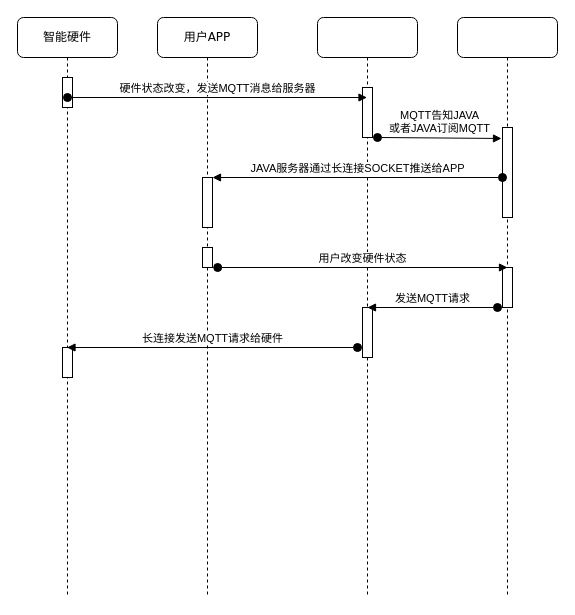
Some shapes in this 575 by 615 pixel diagram are drawn without their labels. Here are the shapes that lost their labels. From the top down, the centre of each, then its label:
At point 367,307: "MQTT服务器".
At point 507,307: "JAVA服务器".
